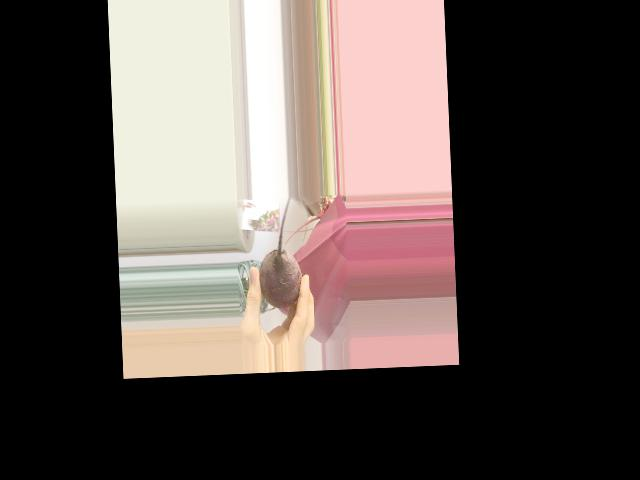beet: (255, 195, 303, 310)
